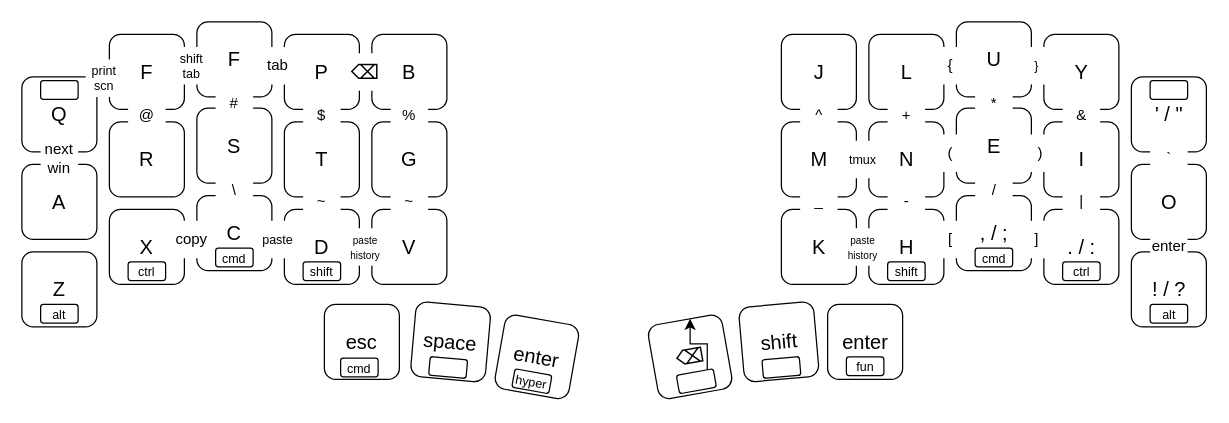
Some shapes in this 1229 by 423 pixel diagram are drawn without their labels. The shapes that lost their labels are listed below. From the top down, each one's centre as x and y in pixels, then its label:
pixel 58 89: media
pixel 1168 89: snap
pixel 447 366: nav
pixel 695 380: num
pixel 781 366: s word
